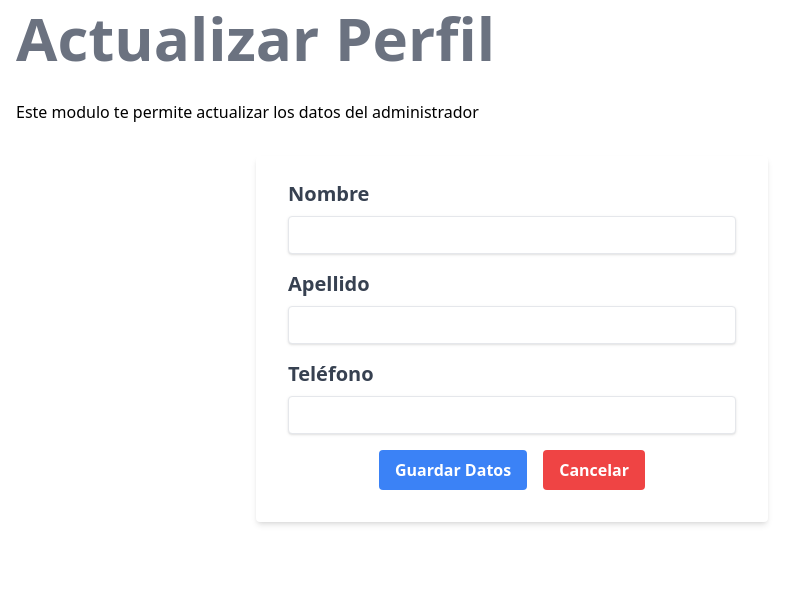
it: ActualizarPerfil › Mostrar errores cuando faltan campos requeridos
Click the button "Guardar Datos" at (453, 470), box x1=379 y1=450 x2=527 y2=490
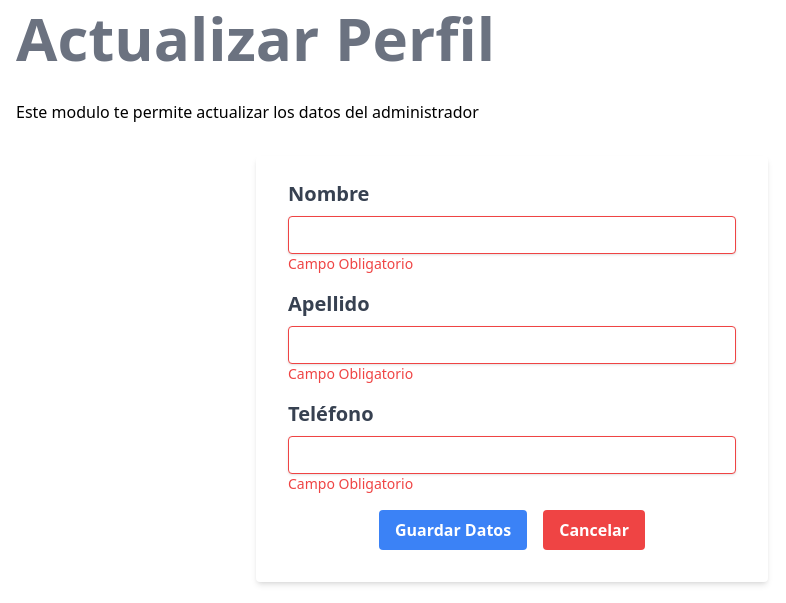
Check: the text "Campo Obligatorio" below "Nombre" is shown, box x1=288 y1=254 x2=413 y2=273
